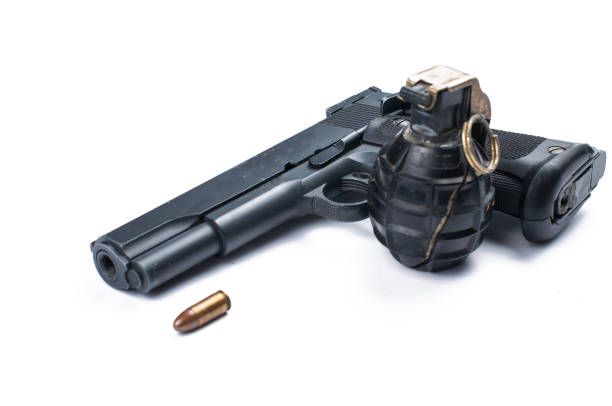e1: (361, 65, 504, 279)
